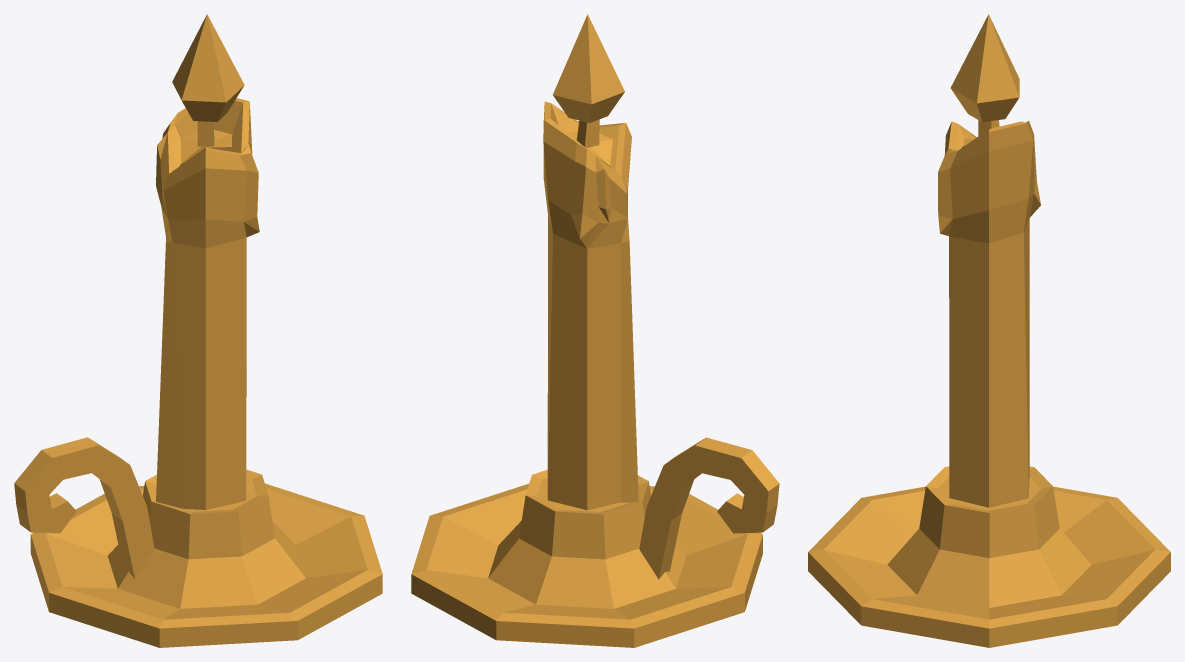
Rendered from candle-finger-holder-lit.fbx.
The picture shows the model from 3 angles, left to right: view 1: azimuth 30°, elevation 25°; view 2: azimuth 150°, elevation 25°; view 3: azimuth 270°, elevation 25°; orthographic projection.
Visible parts, largest first — view 1: candle-finger-holder-lit; view 2: candle-finger-holder-lit; view 3: candle-finger-holder-lit.
Boxes of the visible parts, bbox=[...] form: candle-finger-holder-lit: bbox=[14, 14, 382, 647]; candle-finger-holder-lit: bbox=[411, 14, 779, 647]; candle-finger-holder-lit: bbox=[808, 14, 1170, 647].
Size of the model in its own units: 0.1535 by 0.2381 by 0.1404.
